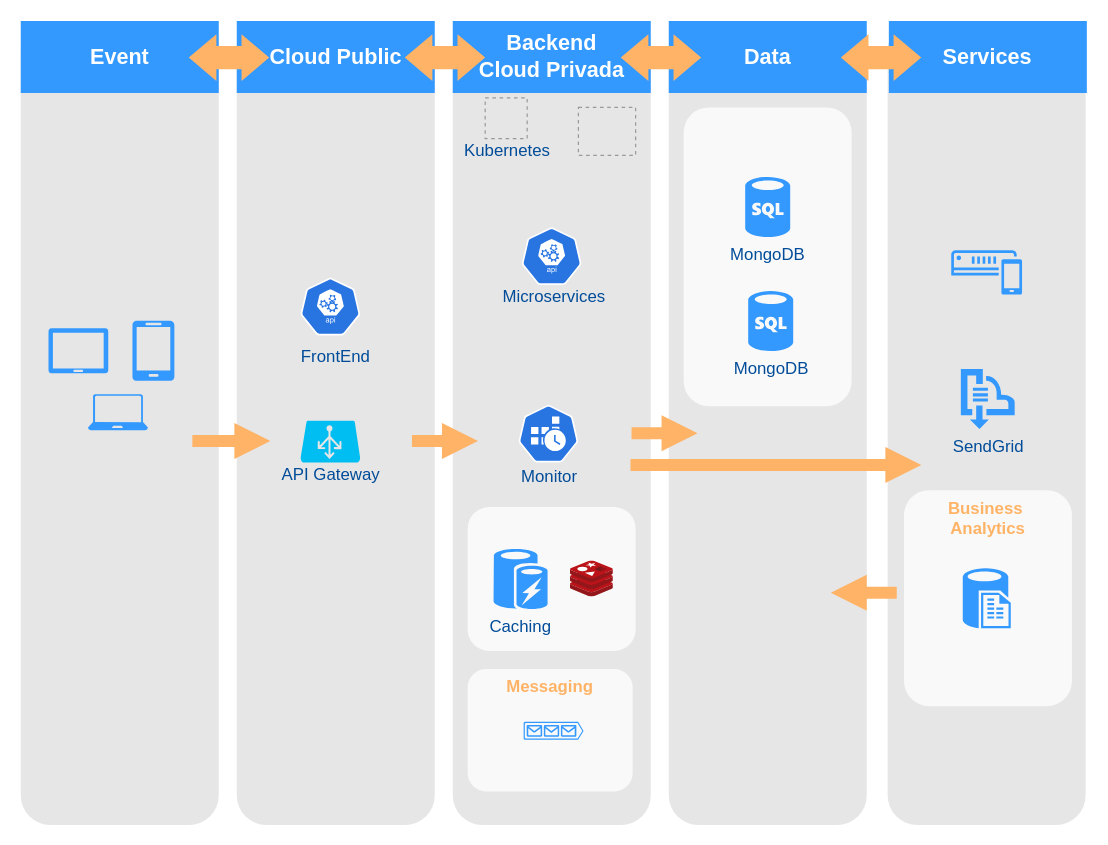
Some shapes in this 1108 by 845 pixel diagram are drawn without their labels. Grey dashed boxes stand in for pictures. Each missing label, with the box of its shape:
Data Management: (683, 107, 851, 406)
Devices: (87, 394, 147, 430)
Performance: (467, 506, 635, 650)
Power BI: (962, 568, 1010, 628)
Queues: (523, 721, 583, 739)
Zendesk: (951, 250, 1021, 294)
